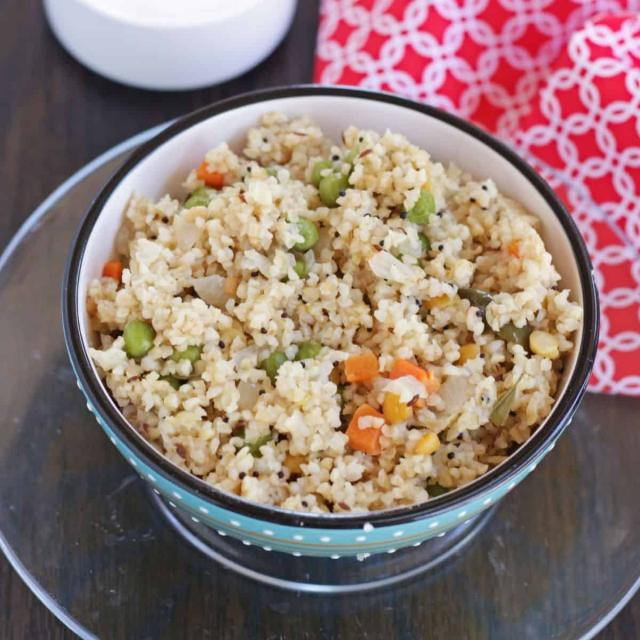UPMA: (86, 118, 581, 510)
